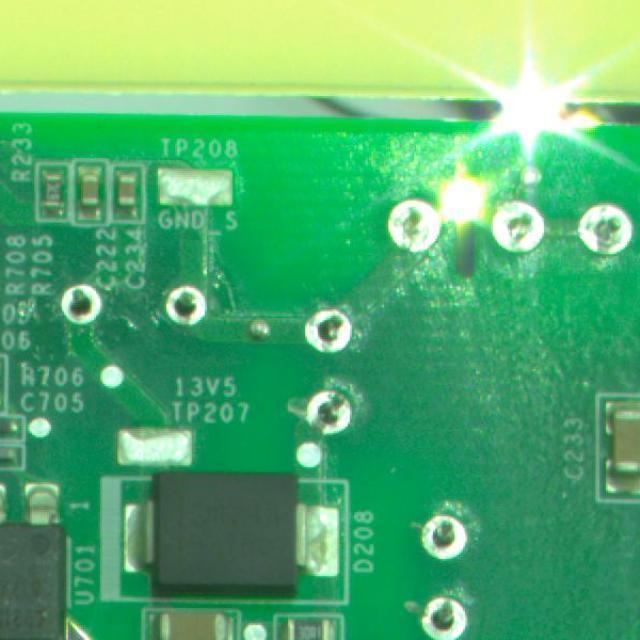Insufficient solder: (410, 586, 479, 640), (414, 504, 477, 562), (300, 304, 358, 363), (50, 279, 111, 334), (302, 387, 357, 430), (167, 278, 207, 337)
